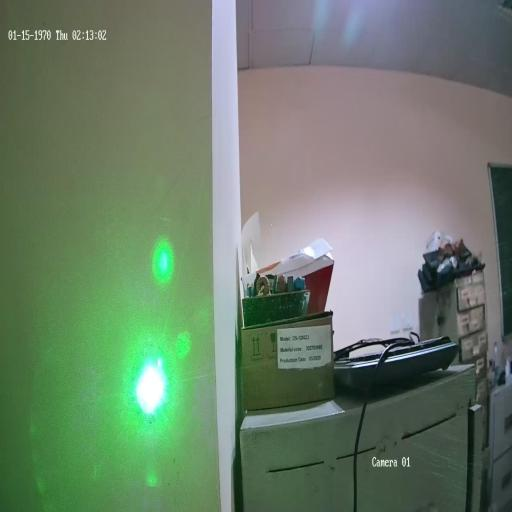laser: (132, 348, 167, 424)
